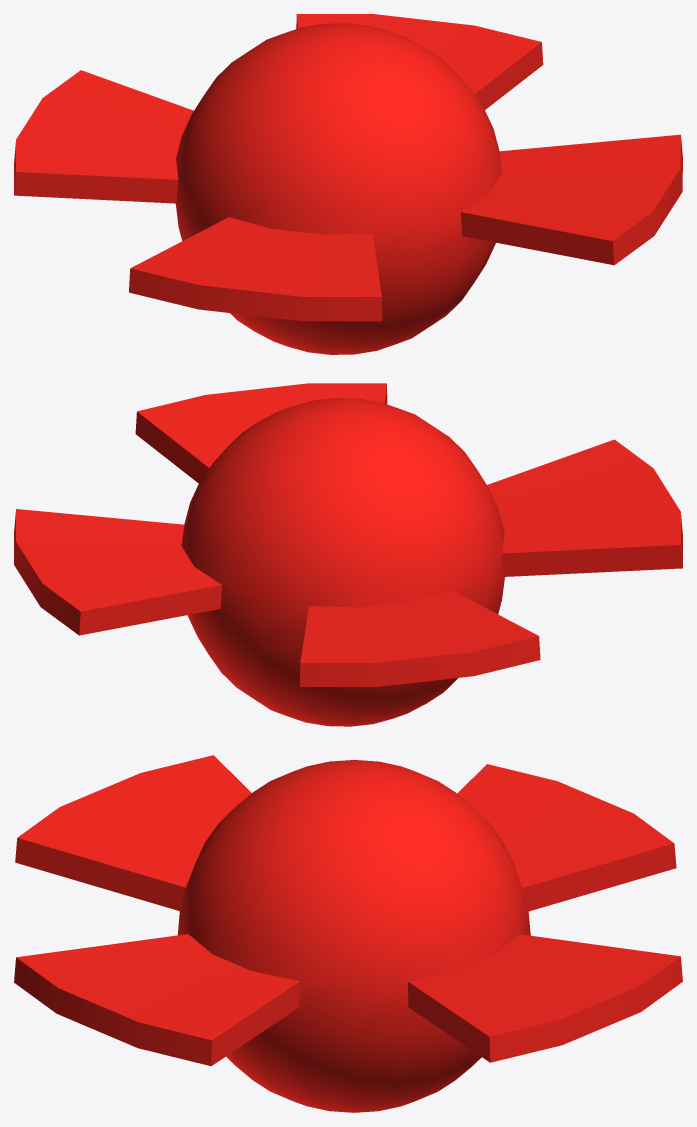
File: chasingBullet.fbx
The picture shows the model from 3 angles, top to bottom: view 1: azimuth 30°, elevation 25°; view 2: azimuth 150°, elevation 25°; view 3: azimuth 270°, elevation 25°; orthographic projection. The views are drawn at different scales.
Parts seen in each view (by area): view 1: pSphere1; view 2: pSphere1; view 3: pSphere1.
Boxes of the visible parts, left/top/right/bottom form: pSphere1: left=14, top=14, right=682, bottom=354; pSphere1: left=14, top=383, right=682, bottom=726; pSphere1: left=14, top=755, right=682, bottom=1112.
Bounding box in the file's own units: 7.83 × 4.07 × 7.72.
1 material, 1 textured.
